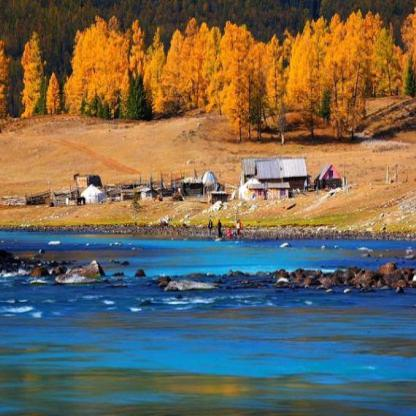other: (74, 16, 403, 125)
